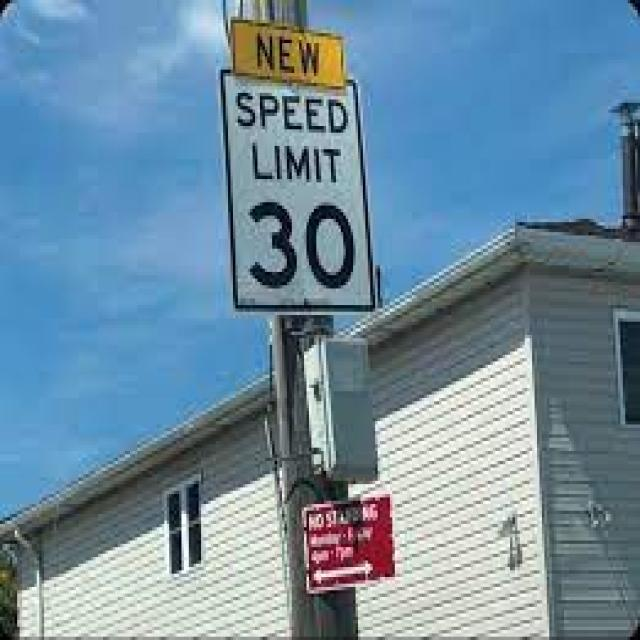Speed Limit Signs: (215, 60, 382, 328)
